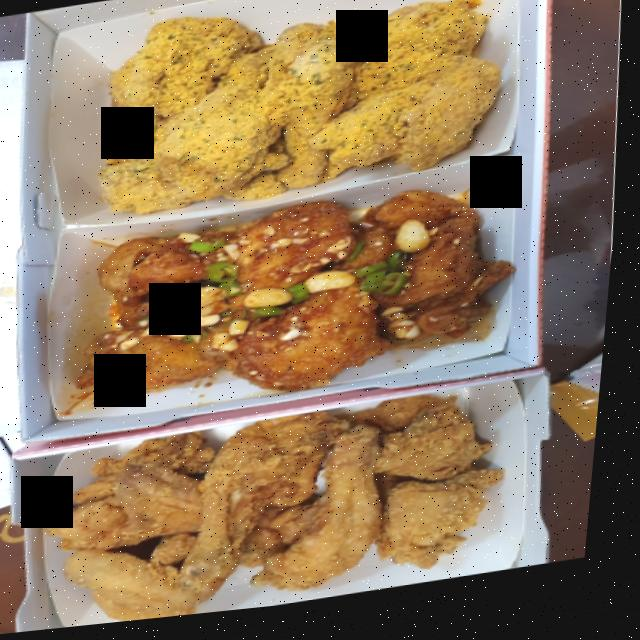Frango: (39, 393, 501, 632), (65, 188, 503, 425)
